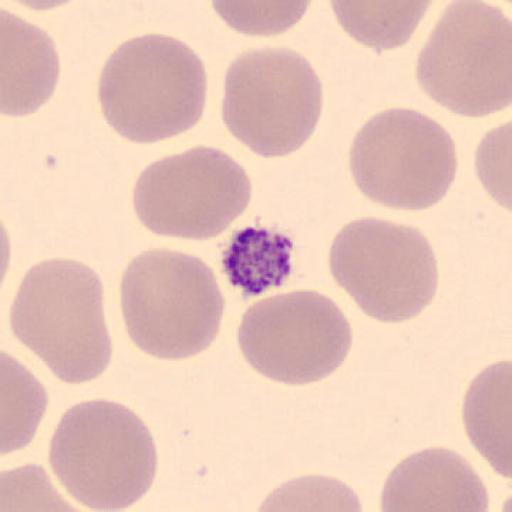Platelet: (219, 223, 297, 299)
RBC: (7, 256, 112, 386), (95, 31, 209, 145), (48, 396, 158, 512), (118, 246, 228, 362), (326, 215, 439, 325), (130, 143, 253, 243), (346, 106, 459, 213), (220, 45, 325, 160), (235, 287, 354, 387), (414, 0, 512, 118), (378, 444, 492, 512), (2, 9, 62, 119), (461, 357, 512, 481), (328, 0, 436, 54), (1, 350, 50, 456), (1, 462, 95, 512), (252, 472, 364, 512), (208, 0, 314, 39), (473, 117, 512, 216), (0, 213, 11, 312), (0, 214, 13, 294), (2, 0, 87, 11)
